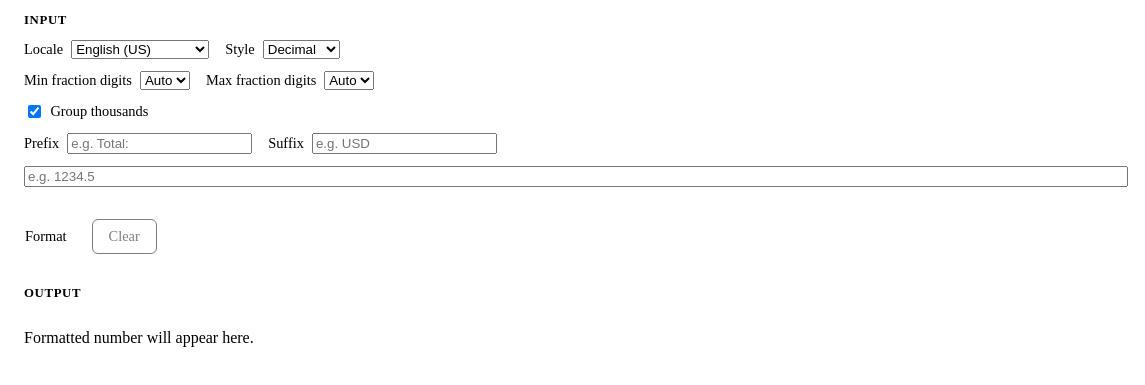
Test: NumberFormatterTool › reflects a style change to percent
The width and height of the screenshot is (1145, 385).
Select "Percent" in the dropdown labelled "Style" at (301,50), box [263,40,340,59]
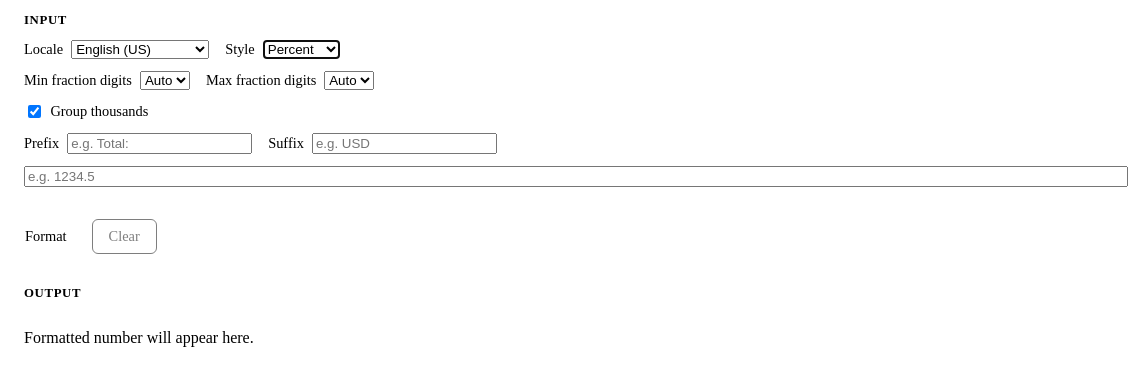
Type "0.25" into the field named "Number input".
click(576, 176); type("0.25")  # box [24,166,1128,187]
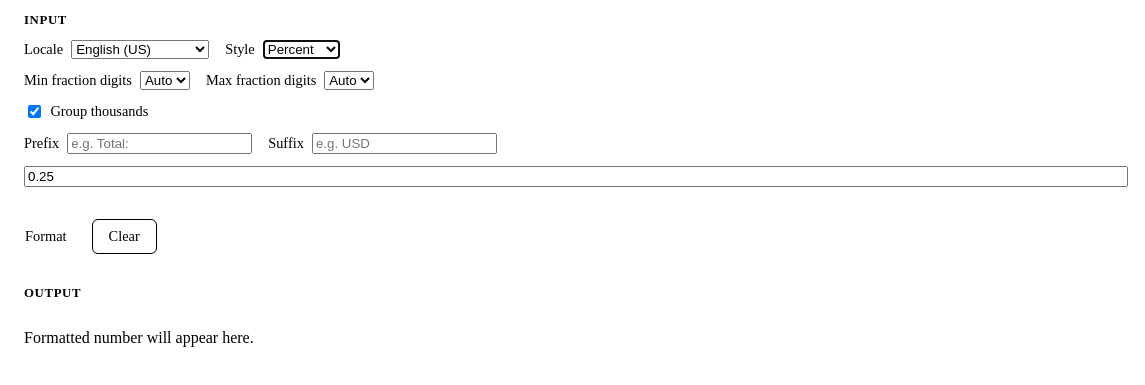
Click the button "Format".
click(46, 236)  # box [8,219,84,254]
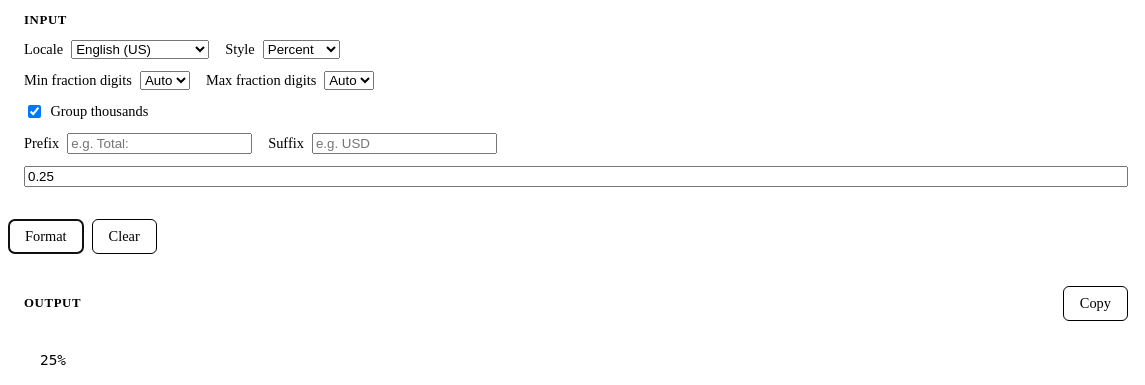
expect the text with test id "number-output" reads "25%": met, box [40,352,66,368]
